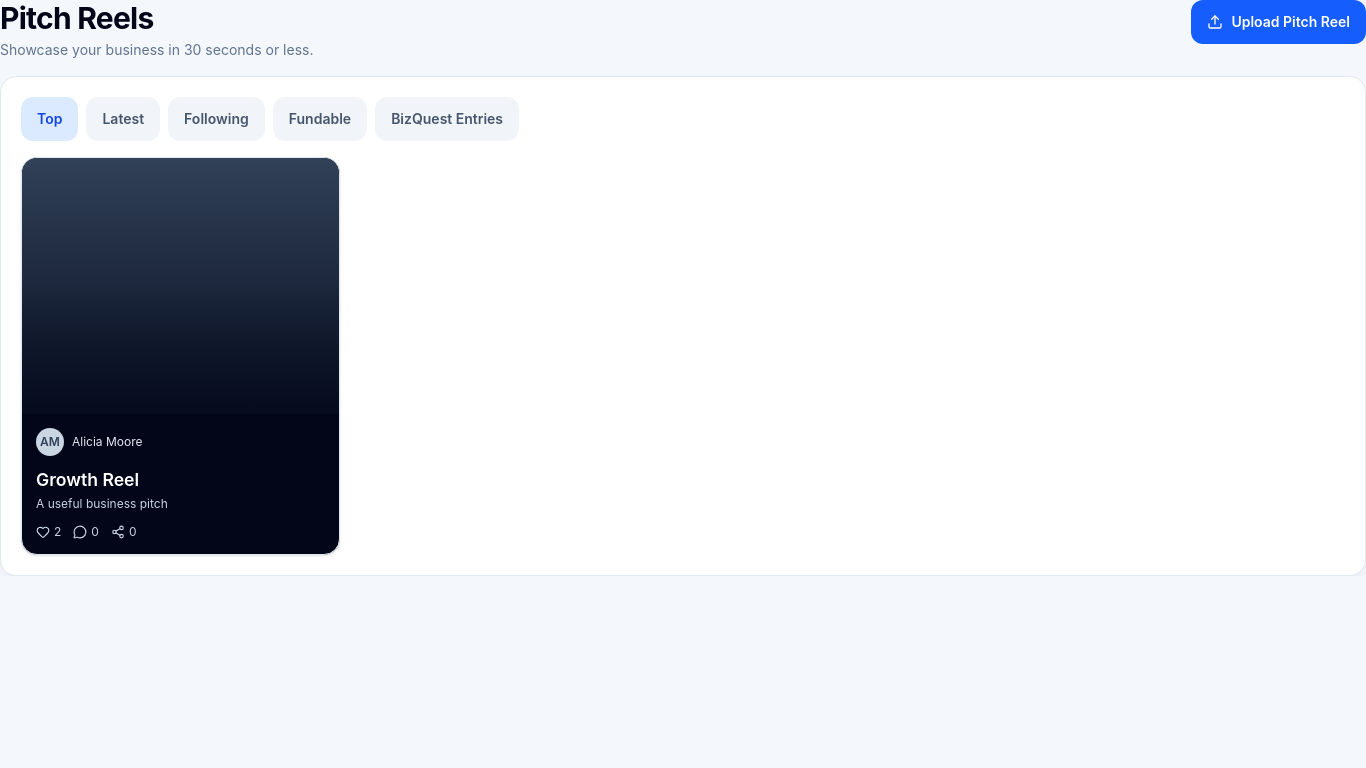
PitchReelsPage interactions › rolls an optimistic reaction back when the API rejects it
This screenshot has width=1366, height=768.
Click the button with aria-label "open pitch reel: growth reel". click: [180, 356]
box: [21, 157, 340, 555]
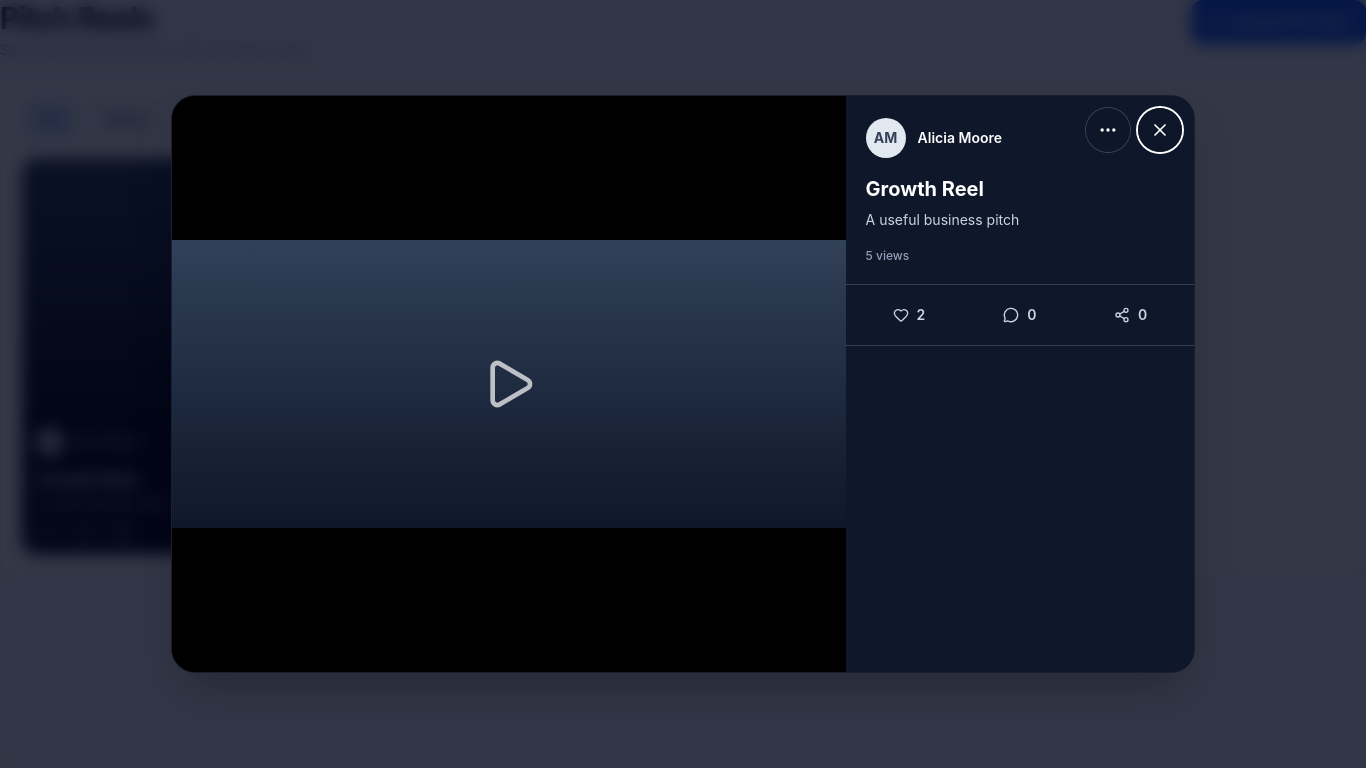
Expected: the dialog "Growth Reel" is shown
Click the button named "like reel, 2 likes". click: [909, 314]
box: [854, 292, 964, 336]
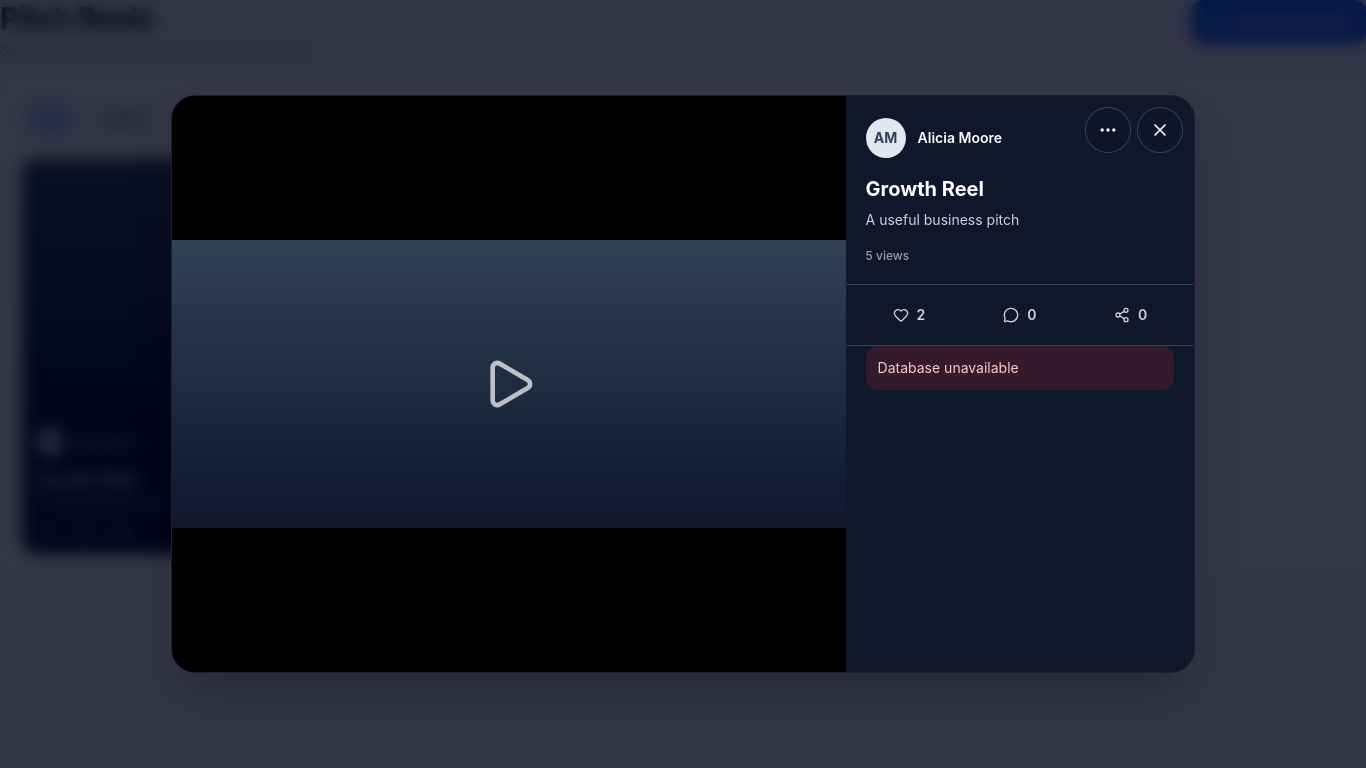
Expected: the button named "like reel, 2 likes" is shown, [854, 292, 964, 336]
Expected: the text "Database unavailable" is shown, [866, 346, 1174, 390]
